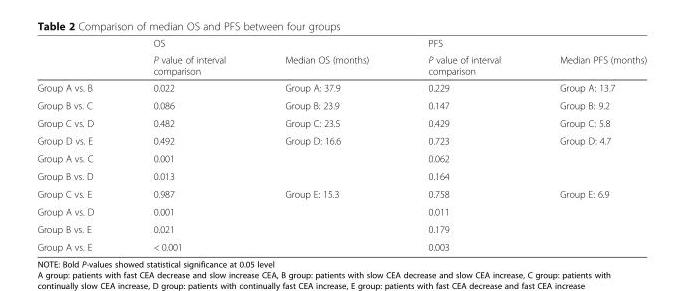table: (36, 37, 646, 252)
table column: (254, 37, 397, 252), (122, 37, 254, 252), (397, 37, 529, 252), (529, 37, 646, 252), (36, 37, 122, 252)
table column header: (36, 37, 646, 79)
table row: (36, 51, 646, 79), (36, 113, 646, 131), (36, 131, 646, 149), (36, 149, 646, 167), (36, 184, 646, 202), (36, 202, 646, 220), (36, 79, 646, 96), (36, 96, 646, 113), (36, 167, 646, 184), (36, 220, 646, 237), (36, 237, 646, 252), (36, 37, 646, 51)
table spanning cell: (254, 37, 397, 79), (122, 37, 254, 79), (397, 37, 529, 79), (529, 37, 646, 79)
